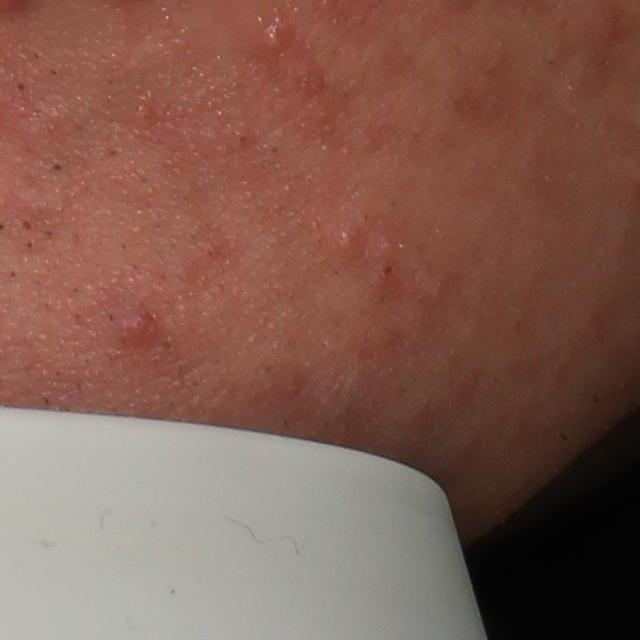comedo: (379, 259, 399, 279), (22, 218, 34, 232)
papule: (105, 298, 170, 353), (251, 10, 310, 57), (331, 226, 371, 262)
